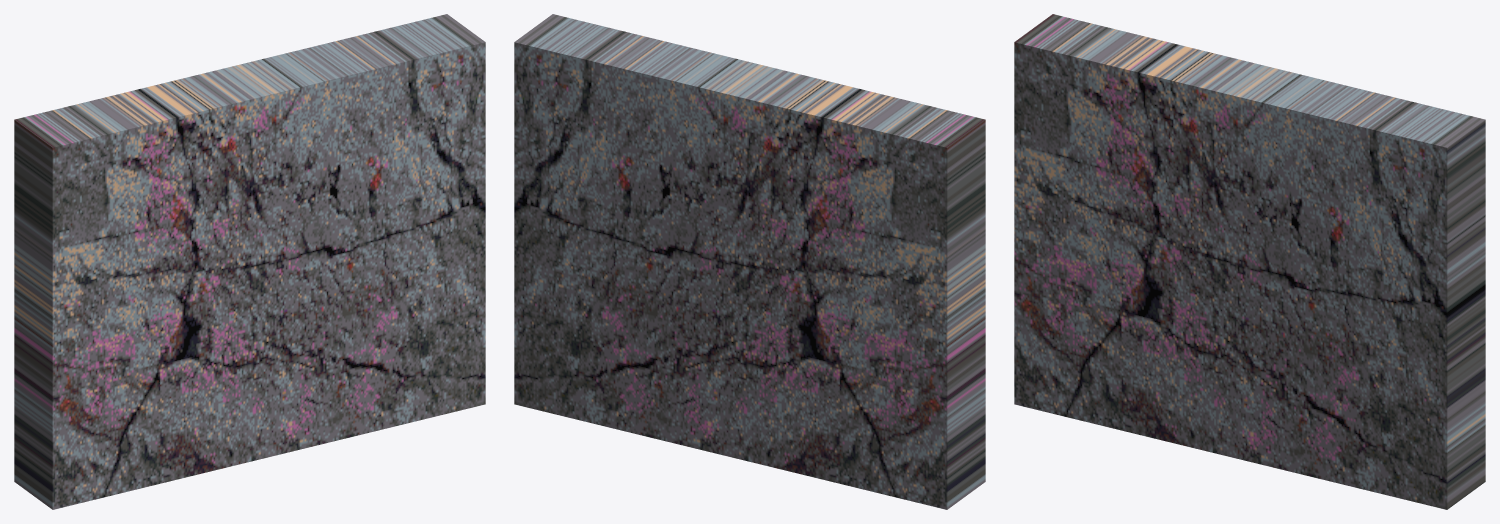
The model's file is paredtutocracked.fbx.
The picture shows the model from 3 angles, left to right: view 1: azimuth 30°, elevation 25°; view 2: azimuth 150°, elevation 25°; view 3: azimuth 330°, elevation 25°; orthographic projection.
Visible parts, largest first — view 1: Cube.002, Cube.004, Cube.001, Cube.006, Cube.005, Cube.003, Cube; view 2: Cube.002, Cube.004, Cube.001, Cube.006, Cube.005, Cube.003, Cube; view 3: Cube.002, Cube.004, Cube.005, Cube.001, Cube.006, Cube.003, Cube.
Boxes of the visible parts, x1,y1,x2,y2 form: Cube.002: [129, 33, 485, 274]; Cube.004: [182, 198, 485, 386]; Cube.001: [14, 91, 195, 286]; Cube.006: [14, 258, 188, 509]; Cube.005: [105, 358, 485, 496]; Cube.003: [370, 14, 485, 196]; Cube: [158, 294, 197, 367]; Cube.002: [514, 33, 870, 274]; Cube.004: [514, 198, 817, 386]; Cube.001: [804, 91, 985, 286]; Cube.006: [811, 258, 985, 509]; Cube.005: [514, 358, 894, 496]; Cube.003: [514, 14, 629, 196]; Cube: [802, 294, 841, 367]; Cube.002: [1129, 42, 1446, 303]; Cube.004: [1143, 235, 1485, 491]; Cube.005: [1066, 313, 1485, 509]; Cube.001: [1014, 14, 1167, 234]; Cube.006: [1014, 181, 1149, 416]; Cube.003: [1369, 100, 1485, 302]; Cube: [1119, 252, 1159, 321].
Size of the model in its own units: 845 by 675 by 130.
1 material, 1 textured.
